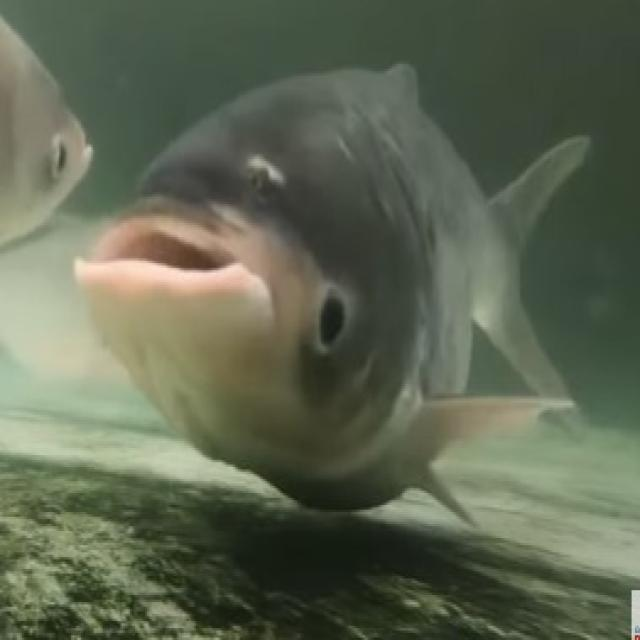Big-Head-Carp: (49, 13, 614, 532)
